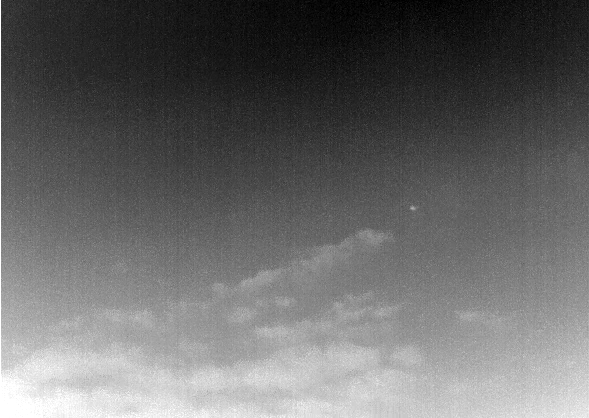dim target: (409, 205, 417, 211)
